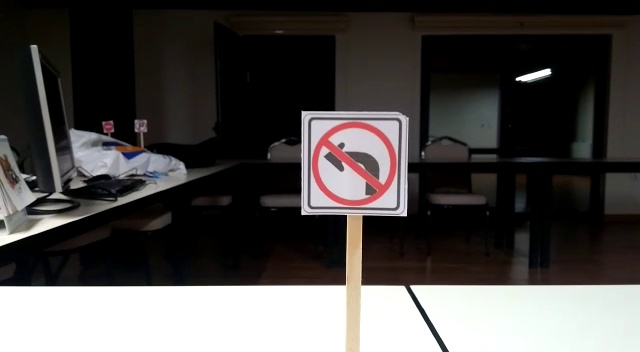sola_donulmez: (305, 116, 402, 208)
